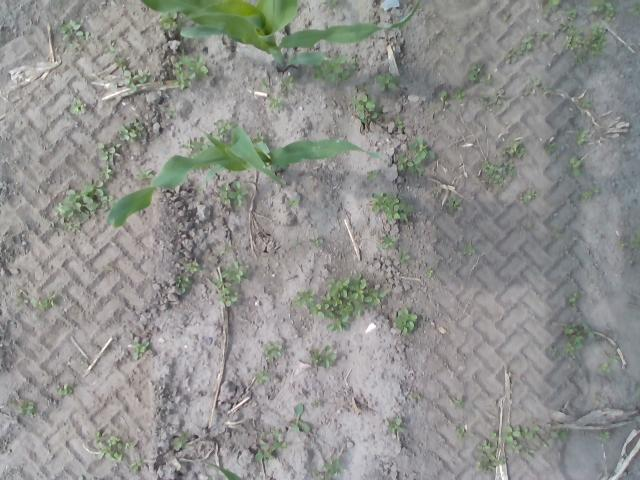Maize: (106, 118, 382, 228), (141, 0, 421, 74), (204, 461, 244, 480)
Weeds: (290, 274, 388, 332), (472, 424, 569, 470), (56, 164, 114, 231), (476, 134, 526, 189), (557, 20, 609, 70), (395, 136, 438, 175), (350, 80, 383, 130), (216, 260, 250, 308), (505, 30, 550, 65), (564, 320, 597, 363), (172, 54, 210, 91), (370, 192, 416, 222), (314, 52, 356, 84), (92, 427, 131, 460), (58, 19, 94, 54), (250, 428, 286, 462), (171, 259, 202, 296), (116, 65, 148, 94), (306, 343, 338, 369), (479, 85, 508, 112), (218, 182, 250, 206), (118, 118, 146, 144), (394, 305, 418, 334), (288, 402, 310, 432), (616, 224, 640, 250), (469, 61, 496, 84), (212, 118, 240, 140), (312, 460, 342, 480), (32, 288, 56, 312), (182, 136, 208, 158), (98, 140, 124, 162), (589, 0, 616, 19), (160, 10, 182, 31), (262, 340, 282, 363), (376, 72, 399, 92), (170, 430, 192, 450), (540, 0, 562, 20), (384, 416, 405, 436), (530, 73, 550, 94), (569, 154, 586, 178), (131, 340, 151, 360), (252, 367, 274, 385), (69, 97, 87, 118), (12, 290, 30, 308), (54, 381, 74, 396), (268, 94, 286, 110), (137, 168, 153, 186), (576, 128, 591, 147), (18, 400, 35, 416), (517, 188, 535, 203), (392, 113, 406, 132), (220, 240, 236, 256), (377, 236, 398, 248), (582, 188, 600, 202), (451, 86, 466, 102), (279, 74, 294, 90), (446, 197, 461, 212), (566, 292, 580, 308), (163, 104, 179, 118), (115, 53, 128, 70), (450, 396, 465, 410), (322, 0, 342, 10), (104, 40, 118, 54), (308, 235, 324, 247), (284, 197, 300, 209), (463, 242, 475, 257), (252, 132, 267, 144), (100, 263, 116, 274), (367, 169, 380, 182), (592, 392, 606, 404), (545, 140, 556, 155), (566, 8, 582, 18), (309, 400, 326, 409), (260, 76, 270, 91), (412, 390, 422, 404), (455, 428, 469, 438), (597, 362, 611, 372), (131, 460, 143, 471), (431, 188, 444, 198), (502, 10, 512, 23), (438, 91, 448, 104), (548, 346, 560, 356), (608, 353, 620, 363), (398, 250, 408, 262), (633, 2, 640, 18), (581, 98, 592, 108), (600, 431, 610, 441), (635, 380, 640, 396), (78, 359, 89, 366), (426, 267, 434, 276), (554, 233, 565, 239), (588, 276, 596, 284), (524, 220, 533, 227)
